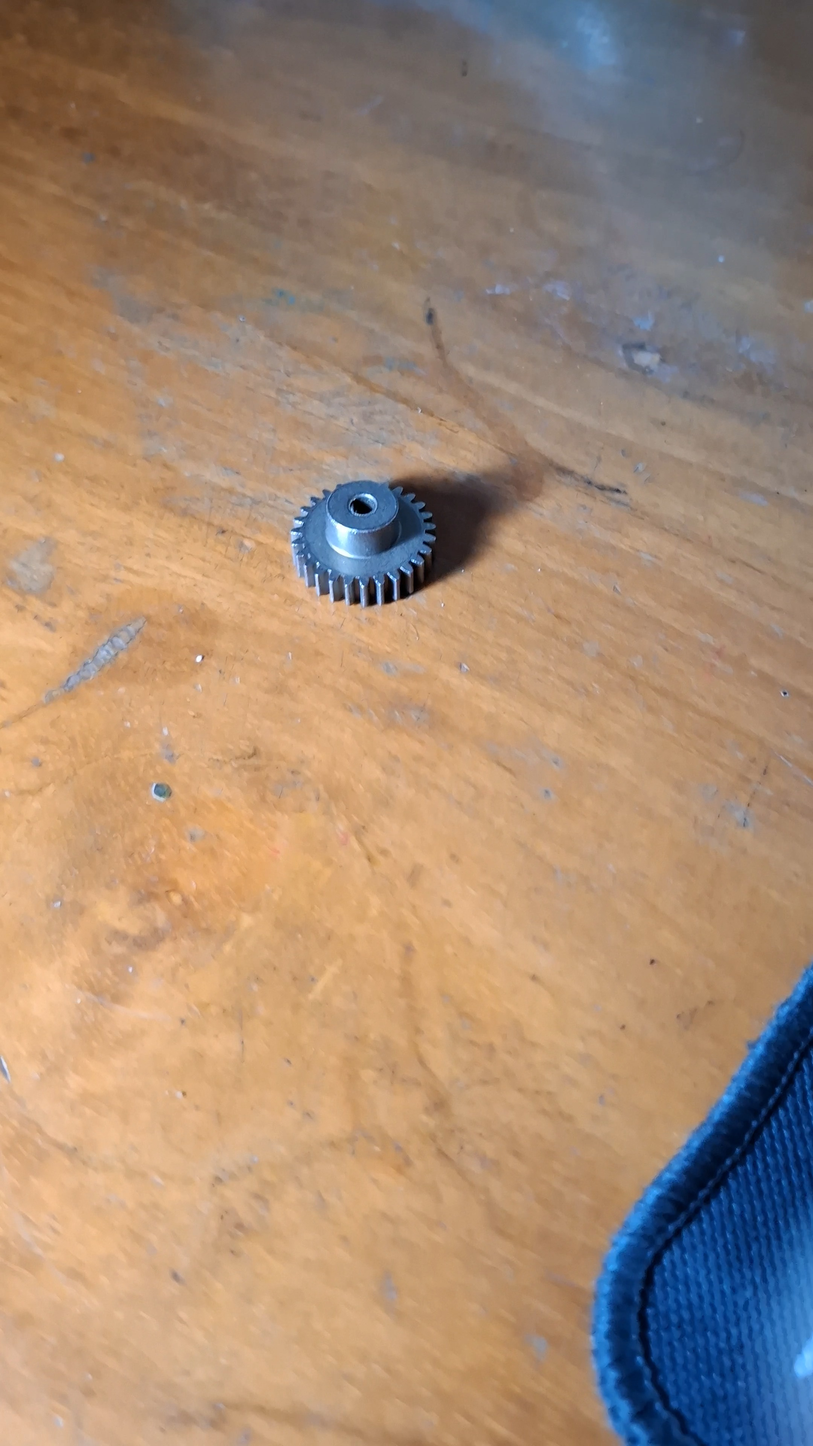spur gear: (291, 481, 435, 605)
